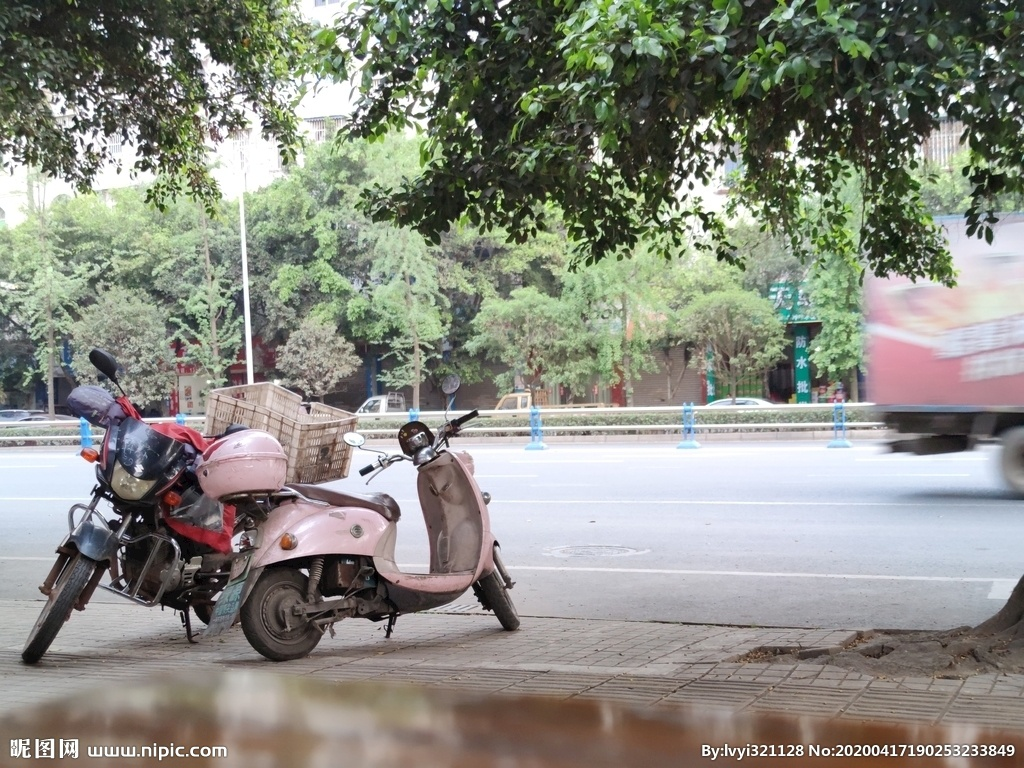non-vehicle: (199, 413, 522, 663), (11, 376, 233, 668)
